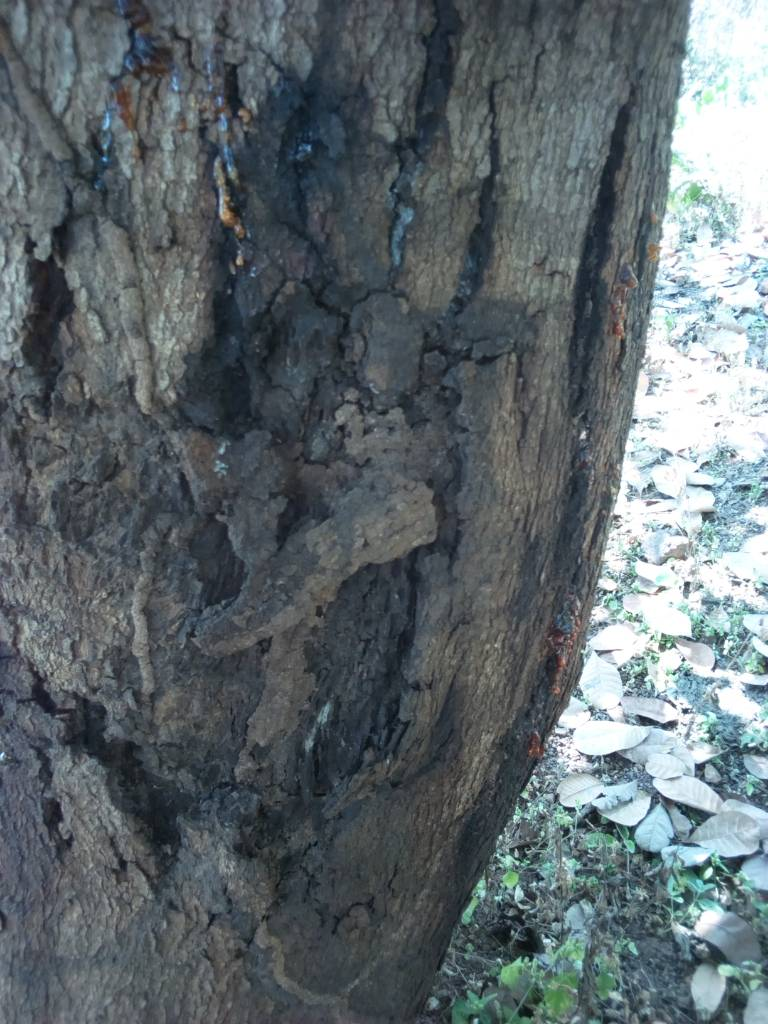Gommose: (97, 33, 469, 869), (521, 407, 600, 805)
